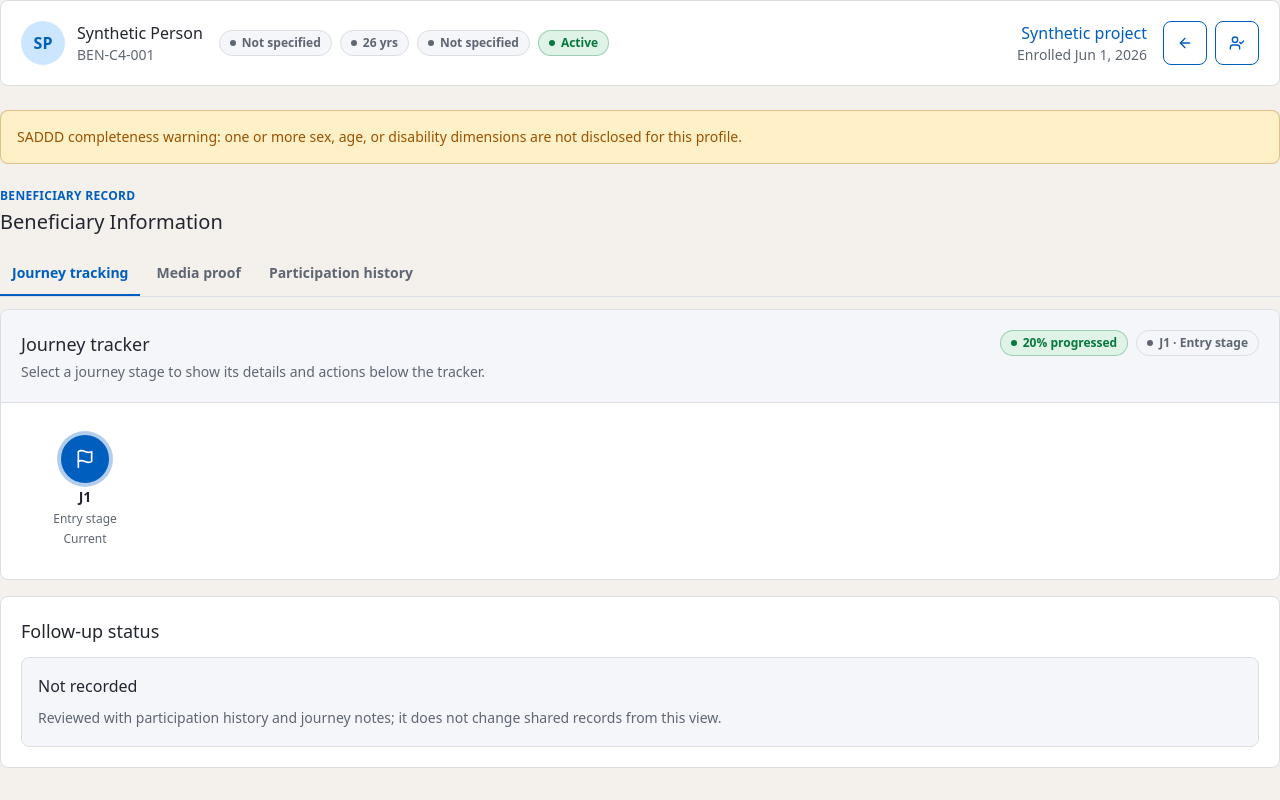
Scenario: BeneficiaryDetail participation › reloads the server journey summary after recording participation
Expected: the text "20% progressed" is shown, [1000, 330, 1128, 356]
What coordinates should you click on to do the following:
click the button "J1 Entry stage Current"
I would click on:
 (85, 491)
Its box is [37, 435, 133, 547].
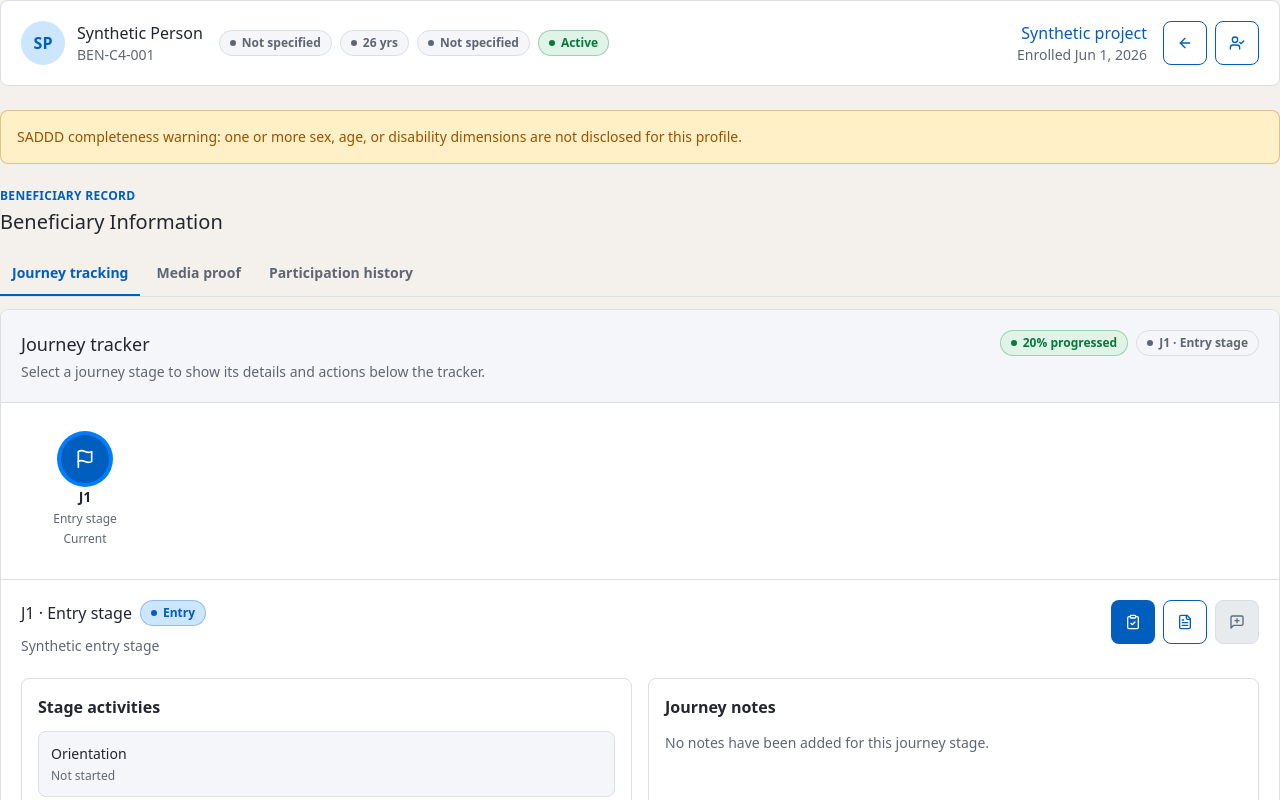
What coordinates should you click on to do the following:
click the button named "Record participation"
I would click on:
 (1133, 622)
Its box is [1111, 600, 1155, 644].
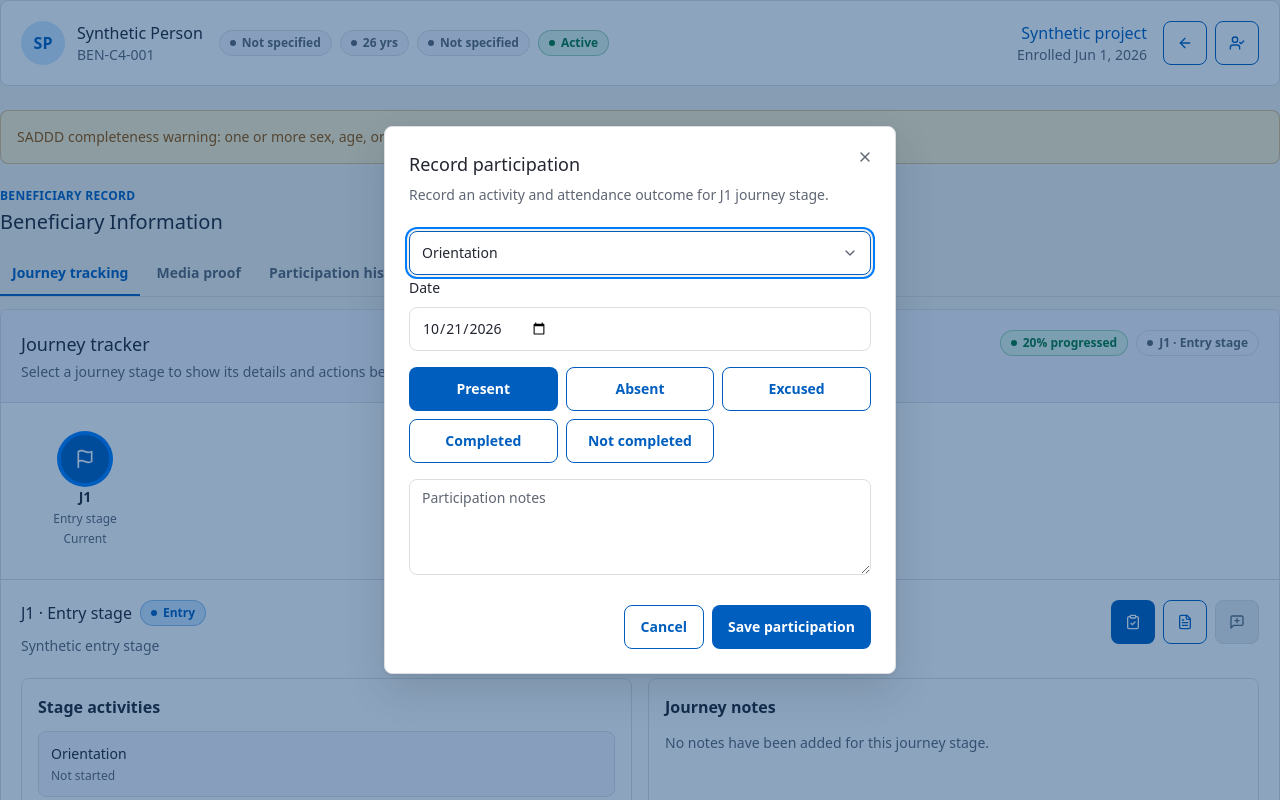
What coordinates should you click on to do the following:
click the button "Save participation"
I would click on:
 (791, 627)
Its box is [712, 605, 871, 649].
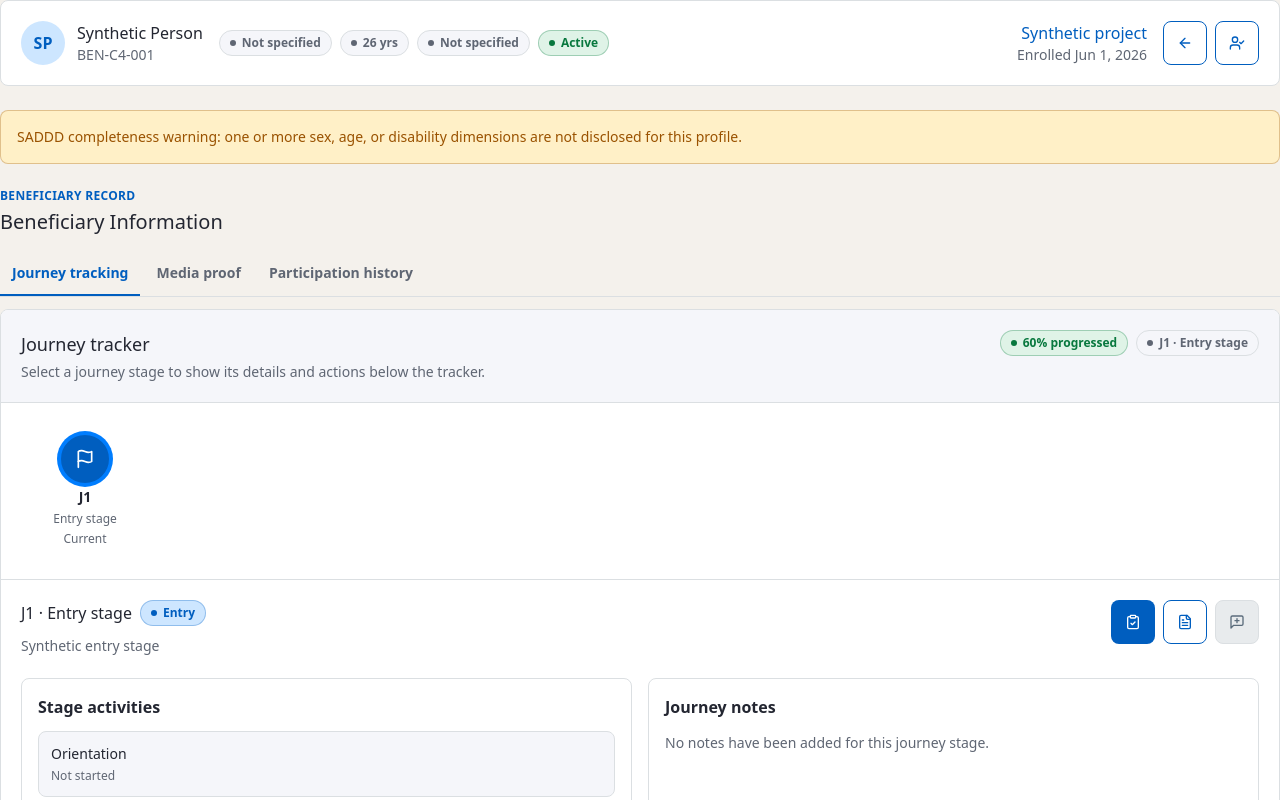
Result: the text "60% progressed" is shown at [1000, 330, 1128, 356]
